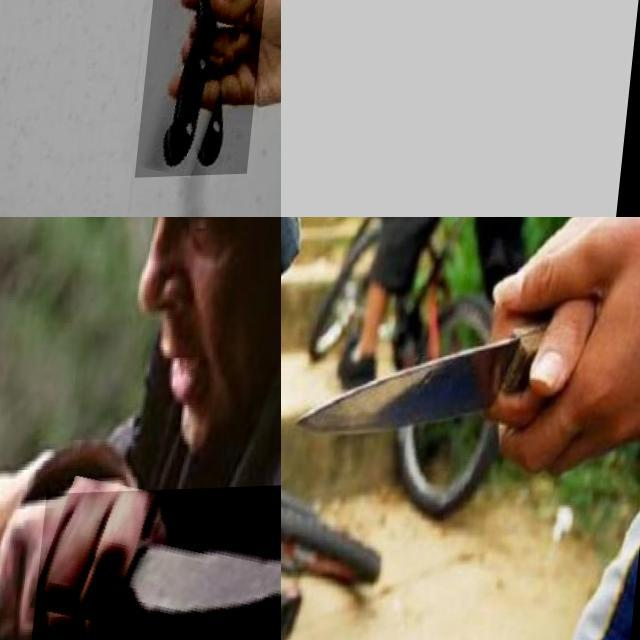-: (40, 487, 281, 640), (281, 217, 386, 549), (143, 0, 280, 180)
gun-knife-thesis - v11 Yolov5 augmented: (281, 0, 640, 217)
